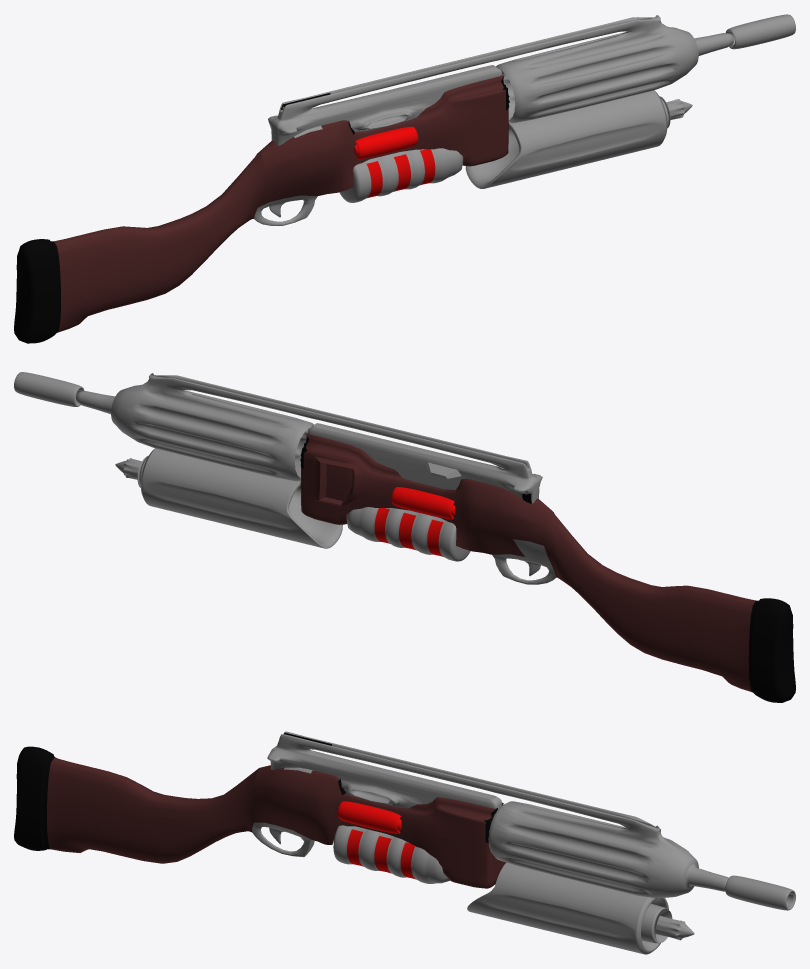
Rendered from rifle.fbx.
The picture shows the model from 3 angles, top to bottom: view 1: azimuth 30°, elevation 25°; view 2: azimuth 150°, elevation 25°; view 3: azimuth 330°, elevation 25°; orthographic projection.
Parts seen in each view (by area): view 1: pCube7; view 2: pCube7; view 3: pCube7.
Boxes of the visible parts, bbox=[...] form: pCube7: bbox=[14, 14, 795, 343]; pCube7: bbox=[14, 372, 795, 702]; pCube7: bbox=[14, 731, 795, 954].
Size of the model in its own units: 16.98 by 3.7 by 1.23.
